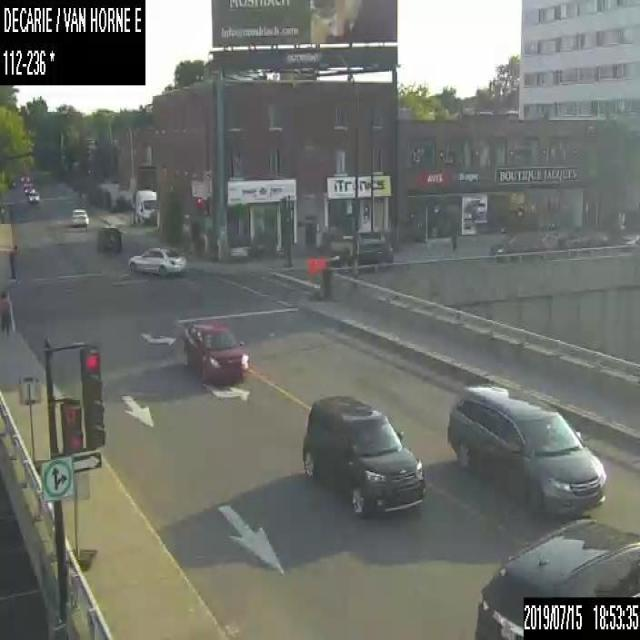construction: (66, 468, 98, 571), (18, 375, 49, 478), (306, 253, 316, 300), (316, 254, 326, 300)
pedestrian: (0, 289, 10, 340), (5, 242, 17, 278), (0, 198, 6, 224)
vehicle: (447, 381, 607, 518), (474, 518, 639, 639), (300, 393, 425, 516), (522, 594, 639, 638), (183, 318, 248, 382), (327, 236, 393, 266), (126, 245, 188, 276), (559, 224, 606, 252), (489, 234, 545, 253), (135, 188, 157, 222), (99, 226, 120, 250), (616, 230, 639, 250), (71, 207, 89, 226), (27, 190, 39, 202), (23, 182, 34, 195)
